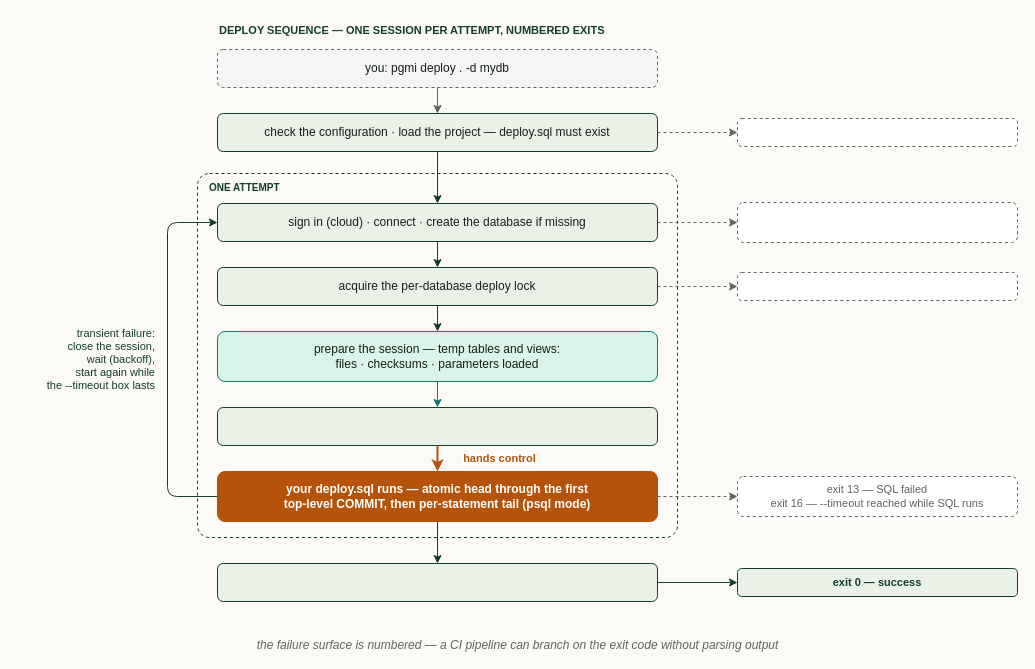
Image size: 1035x669. Some labels were removed from this diagram. The shapes that lost their labels are listed below. From the top down, each one's centre as x and y in pixels, then its label:
point 877,132: exit 10 config · exit 14 deploy.sql not found
point 877,222: exit 11 — connection failed or --timeout reached while connecting
point 877,286: exit 15 — concurrent deploy detected
point 437,426: preprocess — expand CALL pgmi_test() macros
point 437,582: session closes — deploy lock released
